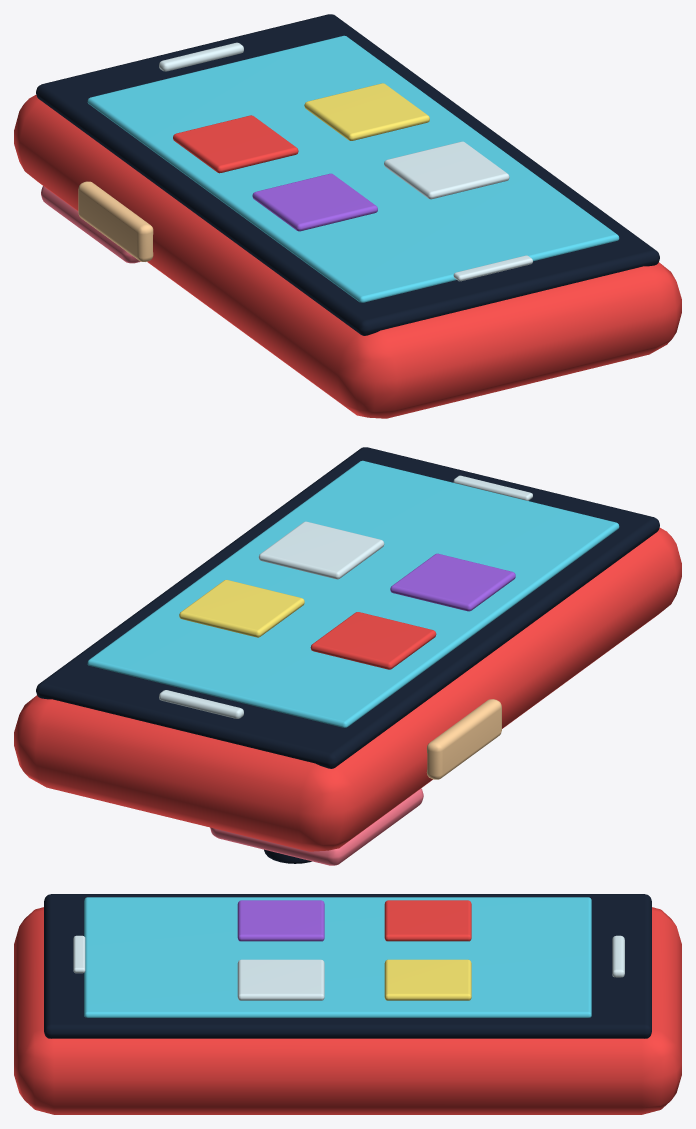
The model's file is phone.glb.
3 views of the same model, one above another, from view 1: azimuth 30°, elevation 25°; view 2: azimuth 150°, elevation 25°; view 3: azimuth 270°, elevation 25° (orthographic). The views are drawn at different scales.
Parts seen in each view (by area): view 1: phone; view 2: phone; view 3: phone.
Part boxes in pixels (bbox=[...]): phone: bbox=[14, 14, 681, 418]; phone: bbox=[14, 447, 681, 865]; phone: bbox=[14, 894, 681, 1114].
Bounding box in the file's own units: 0.5605 × 0.2175 × 1.
Materials: 1 (1 with a texture image).
